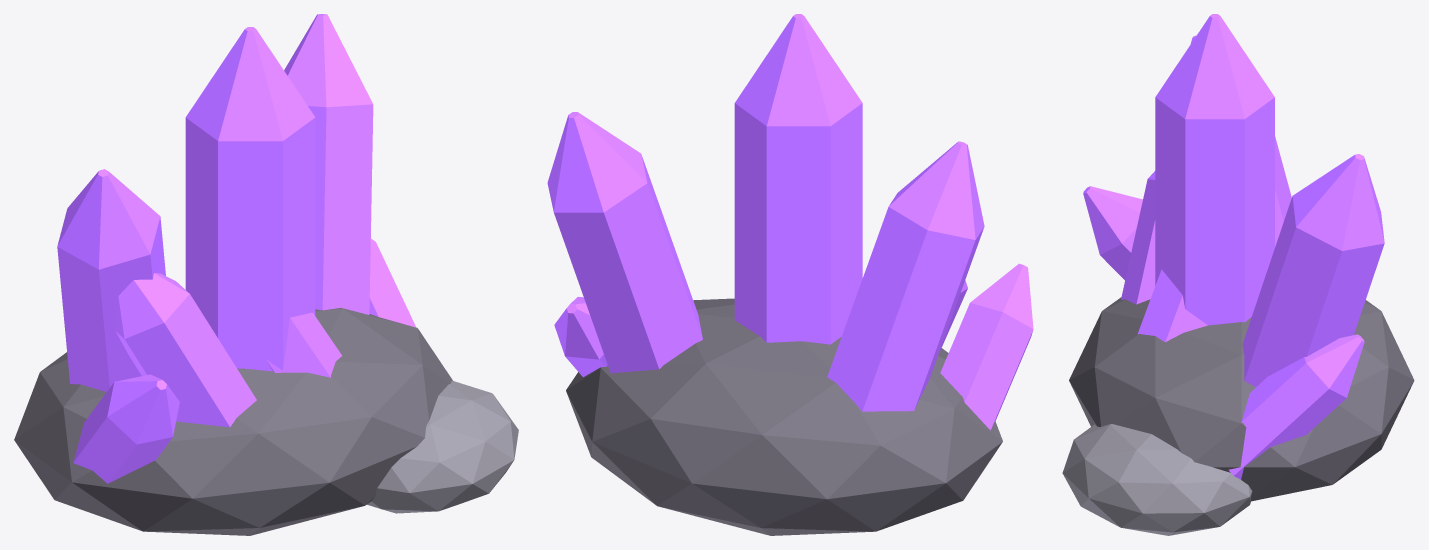
Rendered from amatista.glb.
3 renders of one model, left to right at view 1: azimuth 30°, elevation 25°; view 2: azimuth 150°, elevation 25°; view 3: azimuth 270°, elevation 25°, orthographic. The views are drawn at different scales.
Visible parts, largest first — view 1: amatista_roca, amatista_cristal_0, amatista_roca_2, amatista_cristal_2, amatista_cristal_3, amatista_cristal_1, amatista_punta_0, amatista_punta_1, amatista_punta_2, amatista_cristal_5, amatista_punta_5, amatista_punta_3 (+2 smaller); view 2: amatista_roca, amatista_cristal_0, amatista_cristal_1, amatista_cristal_2, amatista_punta_0, amatista_punta_2, amatista_cristal_5, amatista_punta_1, amatista_punta_5, amatista_punta_6; view 3: amatista_roca, amatista_cristal_0, amatista_roca_2, amatista_cristal_2, amatista_punta_0, amatista_cristal_6, amatista_punta_2, amatista_cristal_3, amatista_punta_5, amatista_cristal_4, amatista_punta_6, amatista_cristal_1 (+1 smaller).
Boxes of the visible parts, <box> form: amatista_roca: <box>14,308,452,535</box>; amatista_cristal_0: <box>185,118,315,371</box>; amatista_roca_2: <box>367,381,518,513</box>; amatista_cristal_2: <box>308,104,373,314</box>; amatista_cristal_3: <box>116,294,256,427</box>; amatista_cristal_1: <box>57,217,165,391</box>; amatista_punta_0: <box>185,27,315,141</box>; amatista_punta_1: <box>57,169,160,269</box>; amatista_punta_2: <box>284,14,372,107</box>; amatista_cristal_5: <box>73,382,172,483</box>; amatista_punta_5: <box>107,374,179,444</box>; amatista_punta_3: <box>115,273,189,338</box>; amatista_roca: <box>566,298,1002,535</box>; amatista_cristal_0: <box>734,103,862,344</box>; amatista_cristal_1: <box>827,207,984,411</box>; amatista_cristal_2: <box>554,154,702,373</box>; amatista_punta_0: <box>735,14,862,126</box>; amatista_punta_2: <box>547,112,647,212</box>; amatista_cristal_5: <box>940,303,1033,430</box>; amatista_punta_1: <box>888,141,984,239</box>; amatista_punta_5: <box>970,263,1033,328</box>; amatista_punta_6: <box>554,296,603,359</box>; amatista_roca: <box>1069,297,1414,501</box>; amatista_cristal_0: <box>1155,97,1274,325</box>; amatista_roca_2: <box>1062,424,1252,535</box>; amatista_cristal_2: <box>1242,196,1384,386</box>; amatista_punta_0: <box>1155,14,1274,119</box>; amatista_cristal_6: <box>1228,357,1346,479</box>; amatista_punta_2: <box>1292,154,1384,250</box>; amatista_cristal_3: <box>1121,179,1155,304</box>; amatista_punta_5: <box>1083,186,1142,254</box>; amatista_cristal_4: <box>1138,269,1207,342</box>; amatista_punta_6: <box>1304,334,1364,397</box>; amatista_cristal_1: <box>1275,136,1291,246</box>.
Size of the model in its own units: 0.338 by 0.374 by 0.2648.
